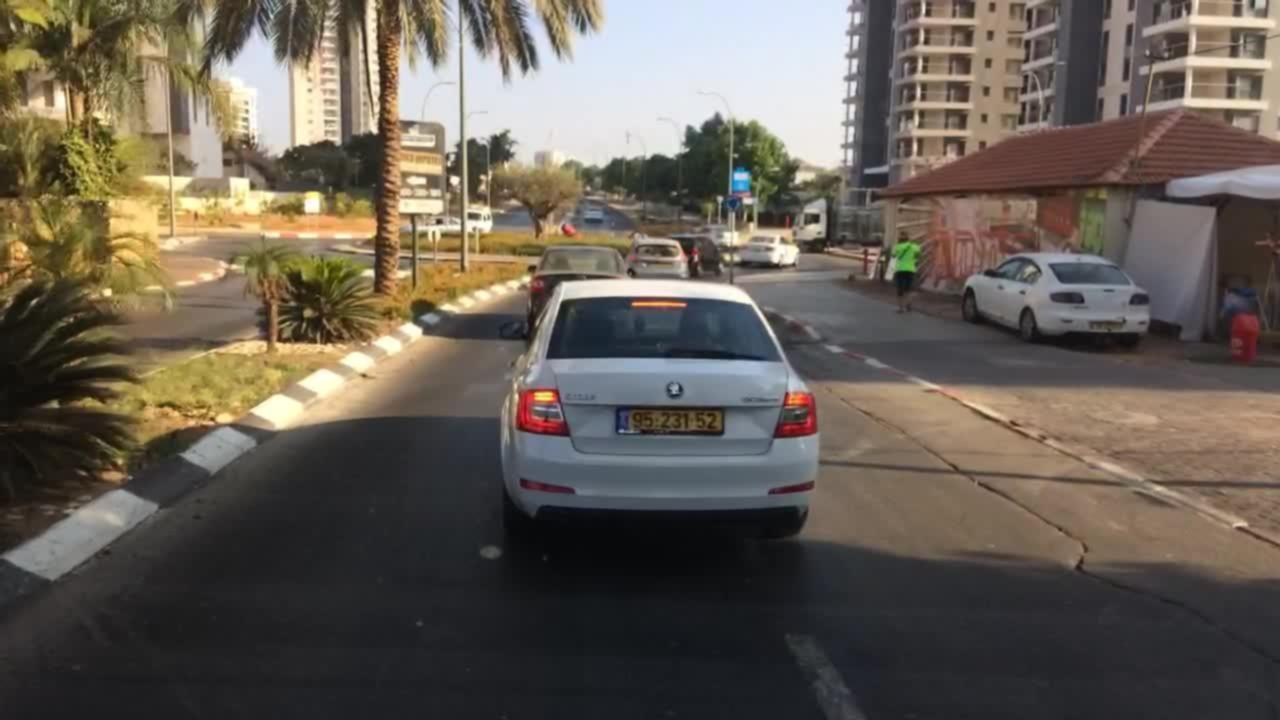skoda: (663, 379, 688, 401)
